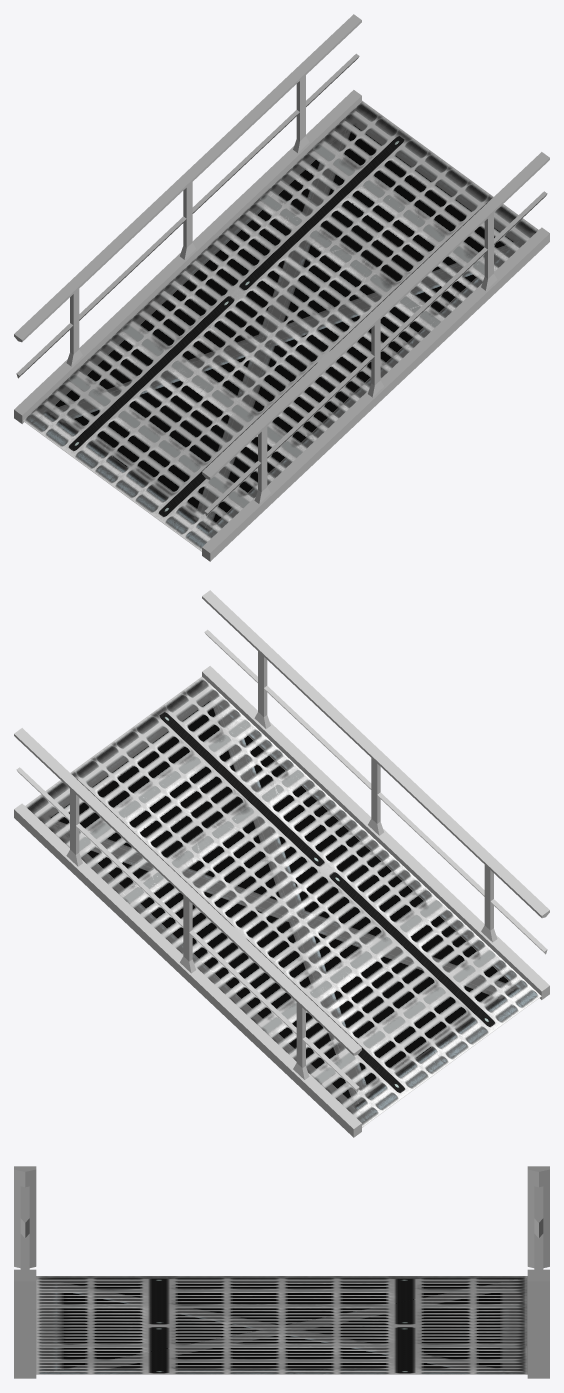
File: PlateForm_Slope_01.FBX
3 renders of one model, top to bottom at view 1: azimuth 30°, elevation 25°; view 2: azimuth 150°, elevation 25°; view 3: azimuth 270°, elevation 25°, orthographic. The views are drawn at different scales.
Parts seen in each view (by area): view 1: PlateForm_Slope_01; view 2: PlateForm_Slope_01; view 3: PlateForm_Slope_01.
Boxes of the visible parts, x1,y1,x2,y2 form: PlateForm_Slope_01: (14, 14, 549, 561); PlateForm_Slope_01: (14, 590, 549, 1137); PlateForm_Slope_01: (14, 1166, 549, 1378).
Bounding box in the file's own units: 6 × 5.42 × 6.
